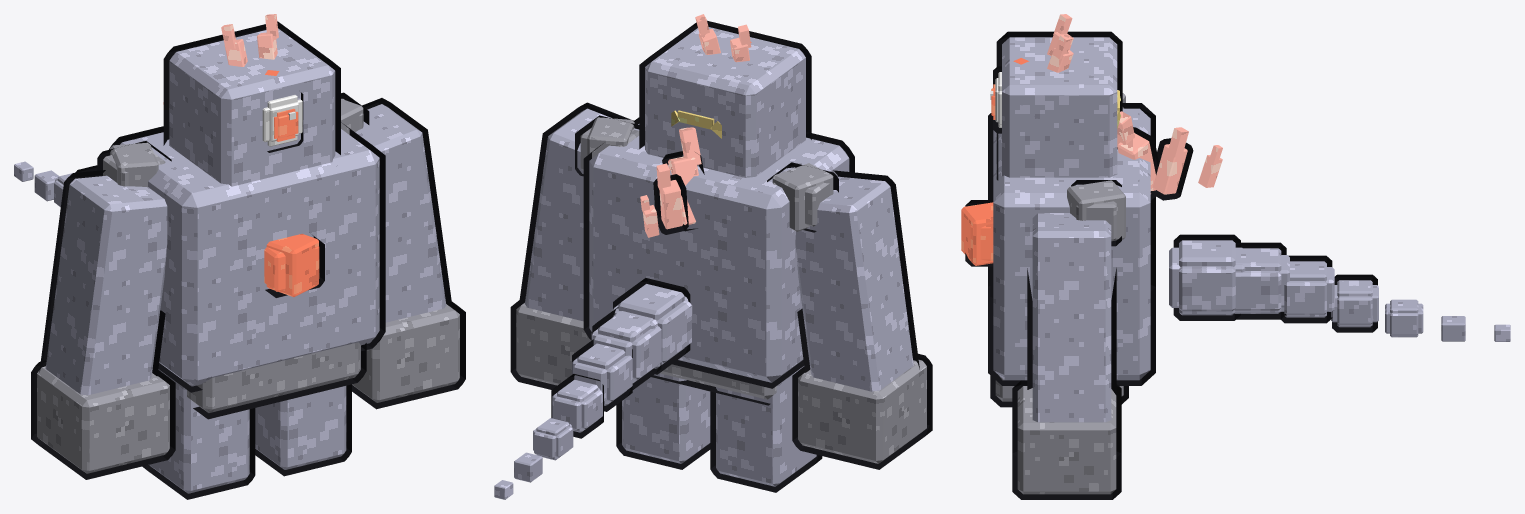
File: guardian_storm.glb
3 views of the same model, side by side, from view 1: azimuth 30°, elevation 25°; view 2: azimuth 150°, elevation 25°; view 3: azimuth 270°, elevation 25° (orthographic). The views are drawn at different scales.
Parts seen in each view (by area): view 1: model; view 2: model; view 3: model.
Boxes of the visible parts, bbox=[...] form: model: bbox=[14, 14, 465, 499]; model: bbox=[494, 14, 932, 499]; model: bbox=[961, 14, 1510, 499].
Size of the model in its own units: 1.76 by 1.96 by 2.23.
7 materials, 6 textured.
